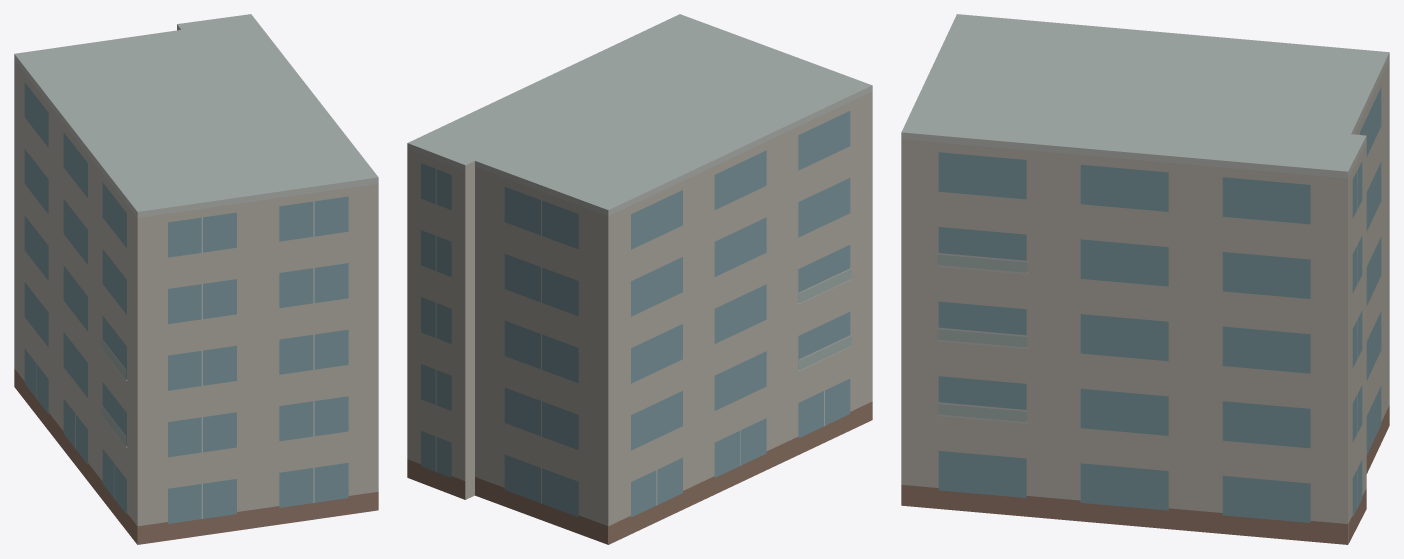
File: survey-upis-32706994.glb
3 renders of one model, left to right at view 1: azimuth 30°, elevation 25°; view 2: azimuth 150°, elevation 25°; view 3: azimuth 270°, elevation 25°, orthographic. The views are drawn at different scales.
Parts seen in each view (by area): view 1: survey-upis-32706994.tmp; view 2: survey-upis-32706994.tmp; view 3: survey-upis-32706994.tmp.
Boxes of the visible parts, x1=… form: survey-upis-32706994.tmp: x1=14, y1=14, x2=378, y2=544; survey-upis-32706994.tmp: x1=407, y1=14, x2=872, y2=544; survey-upis-32706994.tmp: x1=901, y1=14, x2=1389, y2=544.
Size of the model in its own units: 12.24 by 13.5 by 16.02.
